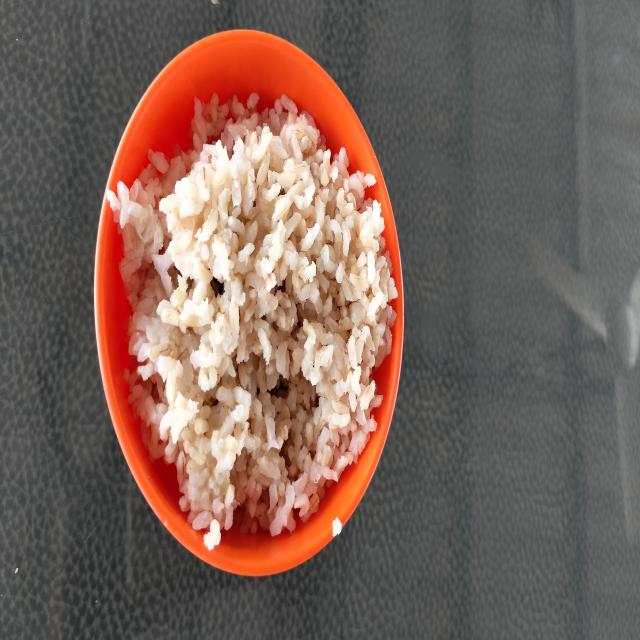brown-rice: (106, 95, 396, 536)
